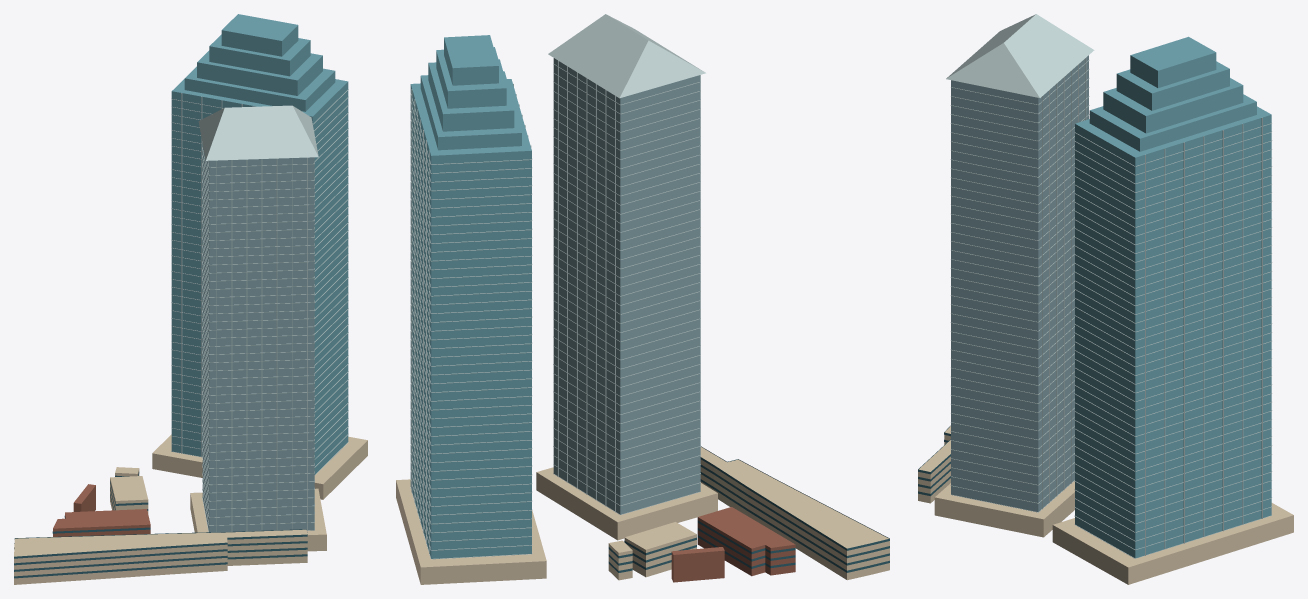
File: city_3_0.glb
3 views of the same model, side by side, from view 1: azimuth 30°, elevation 25°; view 2: azimuth 150°, elevation 25°; view 3: azimuth 270°, elevation 25° (orthographic). The views are drawn at different scales.
Visible parts, largest first — view 1: city_3_0; view 2: city_3_0; view 3: city_3_0.
Part boxes in pixels (left/top/right/bottom): city_3_0: left=14, top=14, right=367, bottom=584; city_3_0: left=396, top=14, right=889, bottom=584; city_3_0: left=918, top=14, right=1293, bottom=584.
Size of the model in its own units: 254 by 265 by 187.
